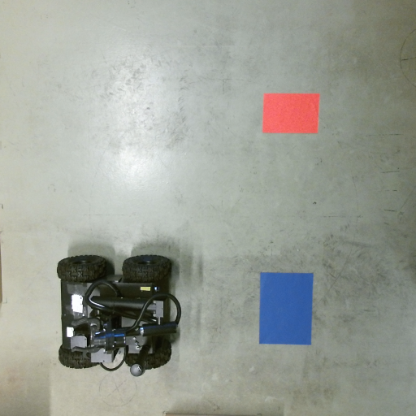Blue: (258, 272, 314, 346)
Jaguar: (54, 252, 175, 378)
Red: (259, 93, 321, 136)
